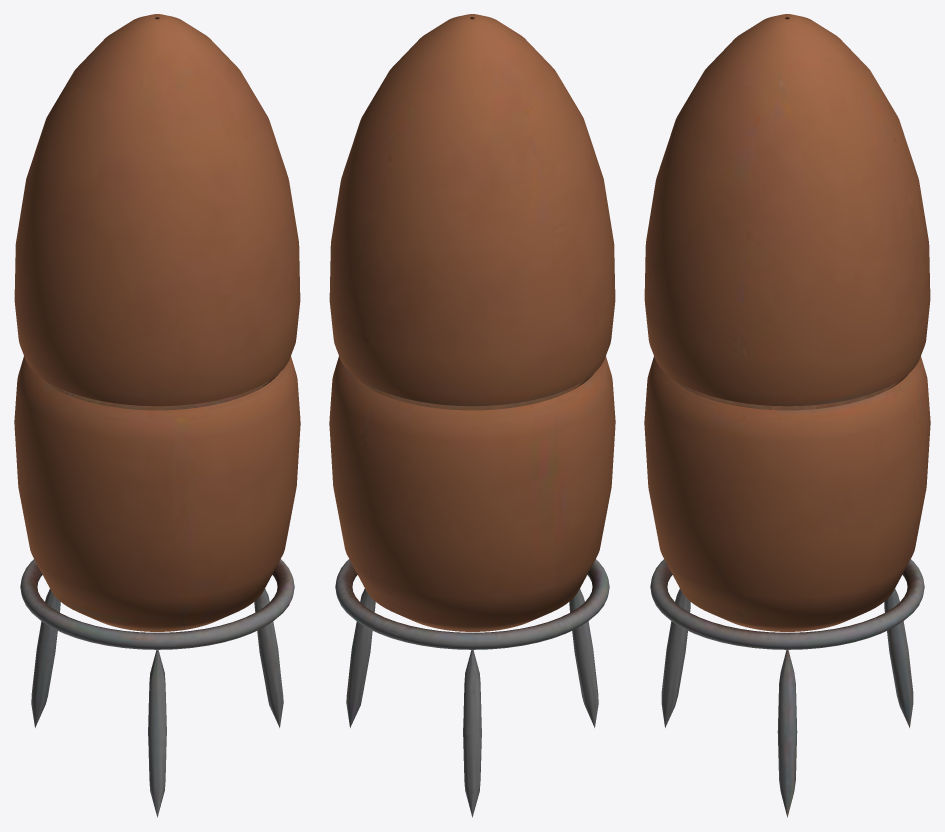
Rendered from kerotakis.glb.
3 renders of one model, left to right at view 1: azimuth 30°, elevation 25°; view 2: azimuth 150°, elevation 25°; view 3: azimuth 270°, elevation 25°, orthographic.
Visible parts, largest first — view 1: kerotakis; view 2: kerotakis; view 3: kerotakis.
Boxes of the visible parts, bbox=[...] form: kerotakis: bbox=[14, 14, 300, 817]; kerotakis: bbox=[329, 14, 615, 817]; kerotakis: bbox=[644, 14, 930, 817].
Size of the model in its own units: 0.1005 by 0.2857 by 0.1002.
Materials: 1 (1 with a texture image).
